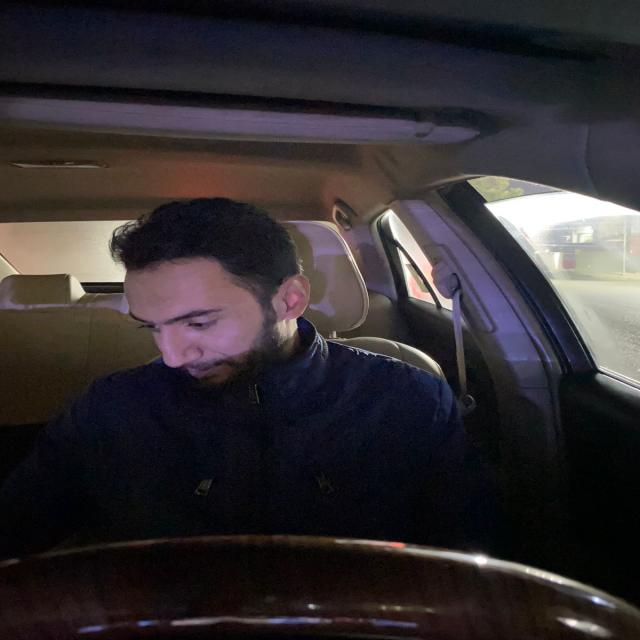person: (109, 191, 311, 389)
